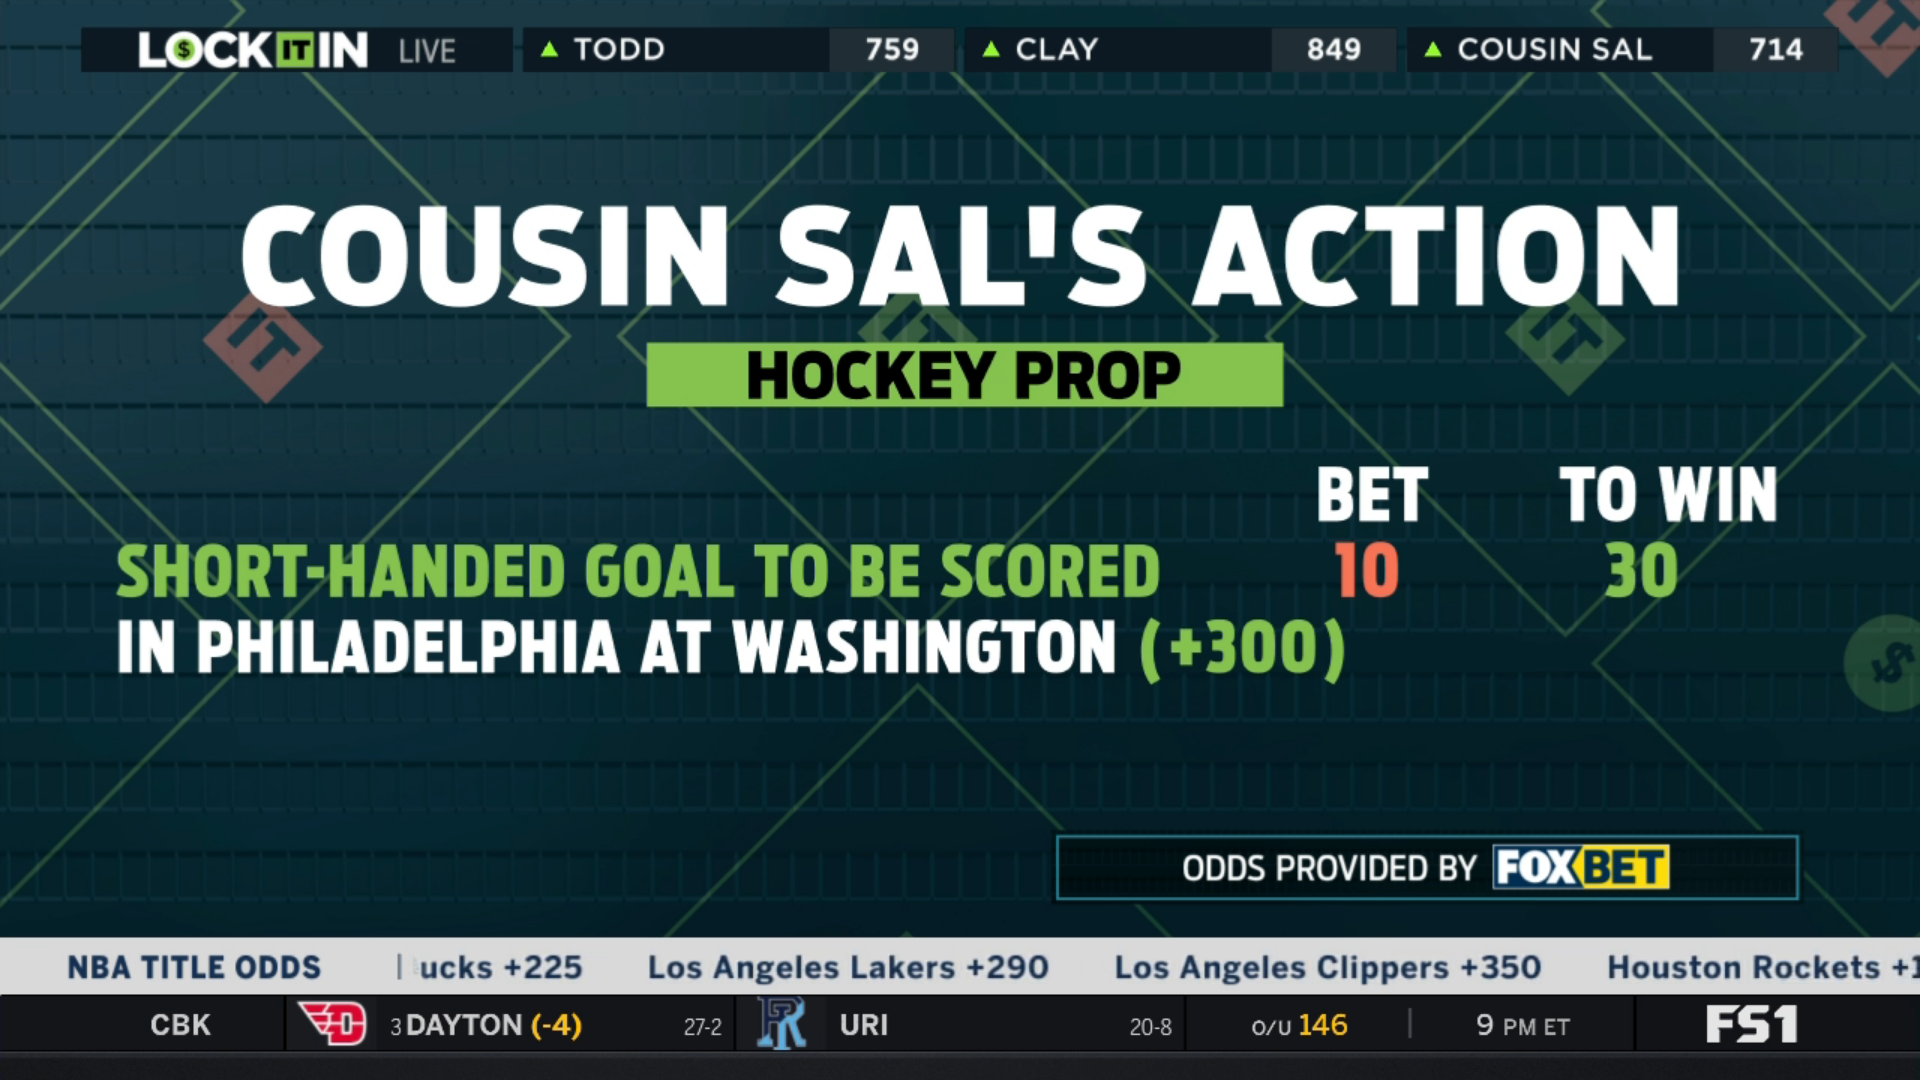Bet: (96, 533, 1346, 698)
Bet Amount: (1303, 454, 1436, 607)
Subtitle: (633, 330, 1300, 419)
Title: (229, 183, 1713, 327)
To Win: (1536, 447, 1783, 613)
Top Bar: (63, 7, 1853, 83)
